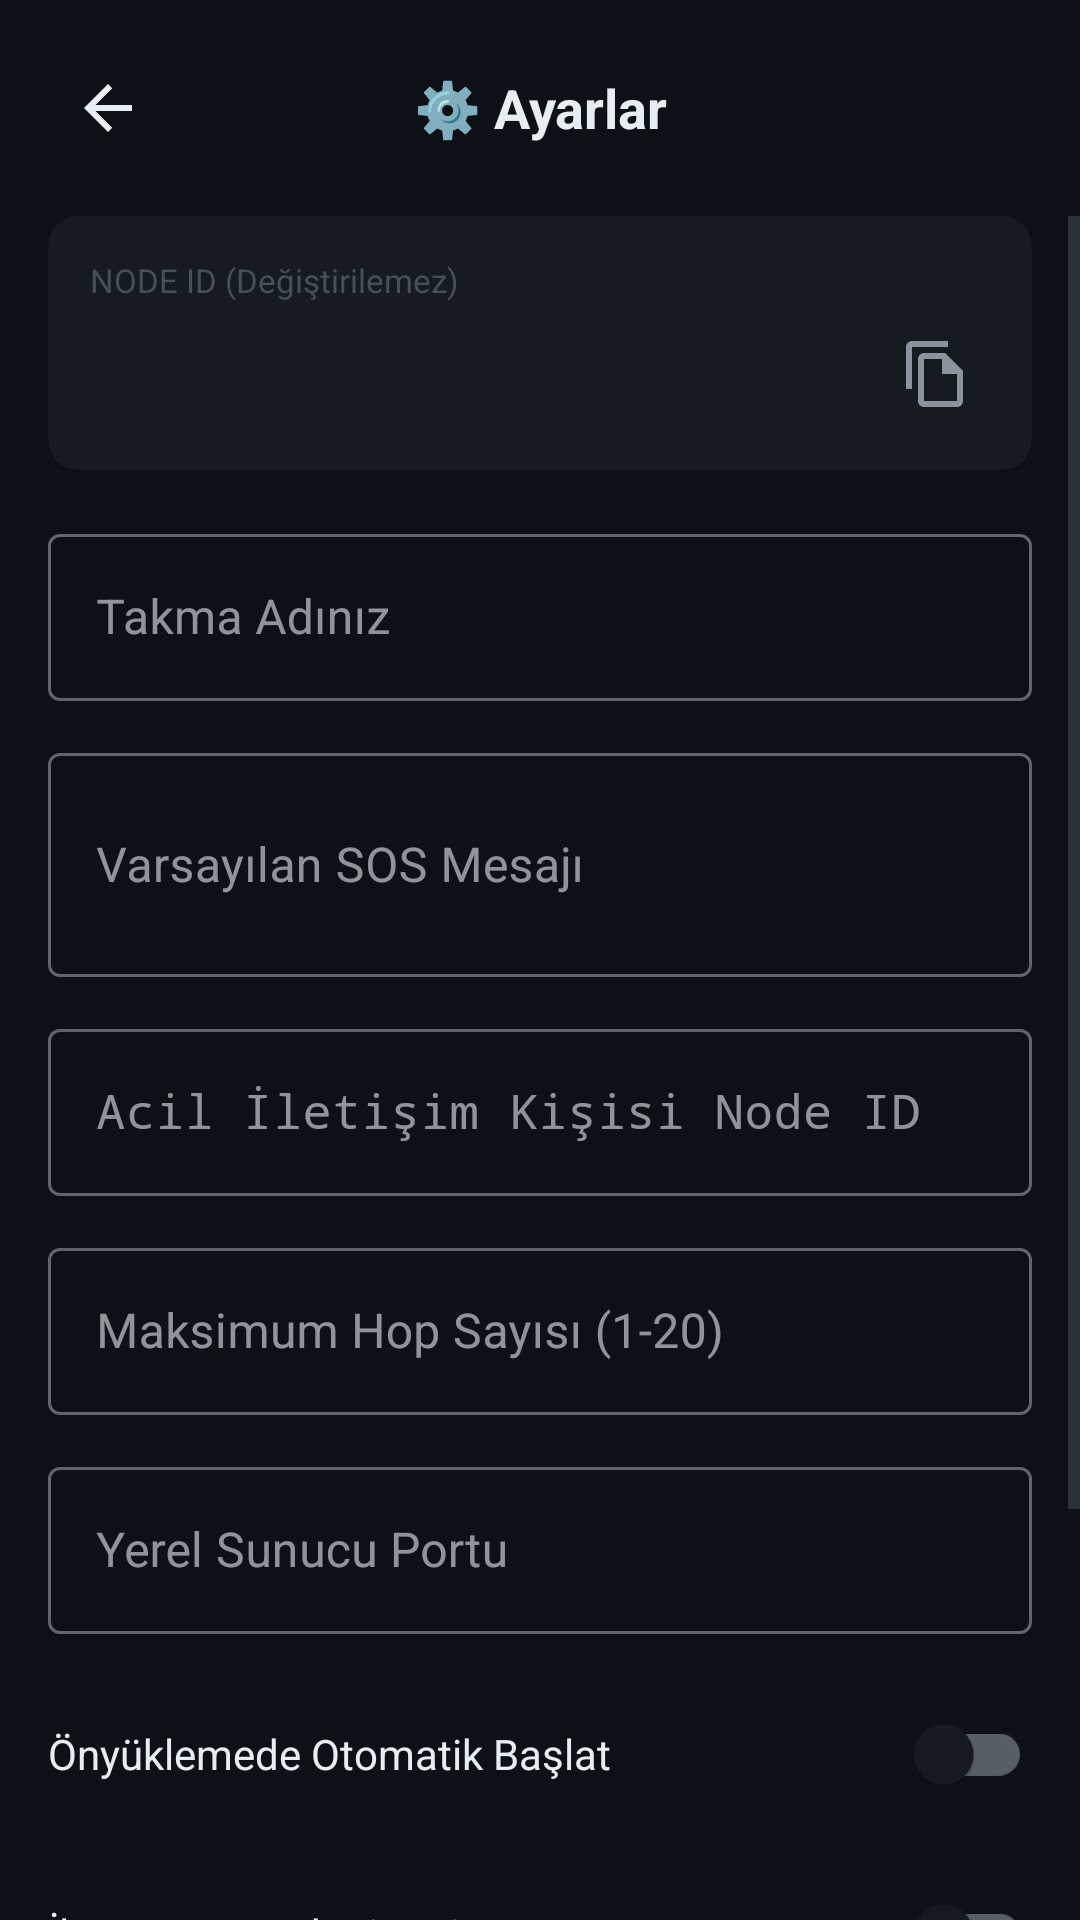

Named icons in this screenshot (1080 x 1920) and their bounding boxes, region(x1, y1, x2, y2):
arrow back: region(84, 84, 132, 132)
